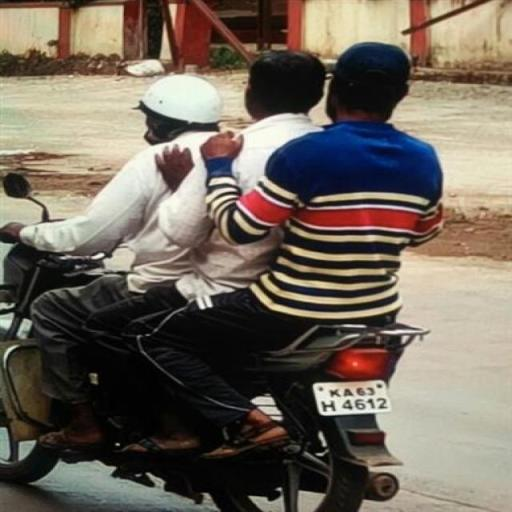tripple riding: (2, 38, 472, 345)
